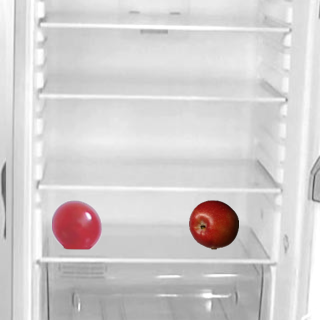Apple Braeburn: (188, 199, 238, 249)
Redcurrant: (51, 199, 101, 249)
